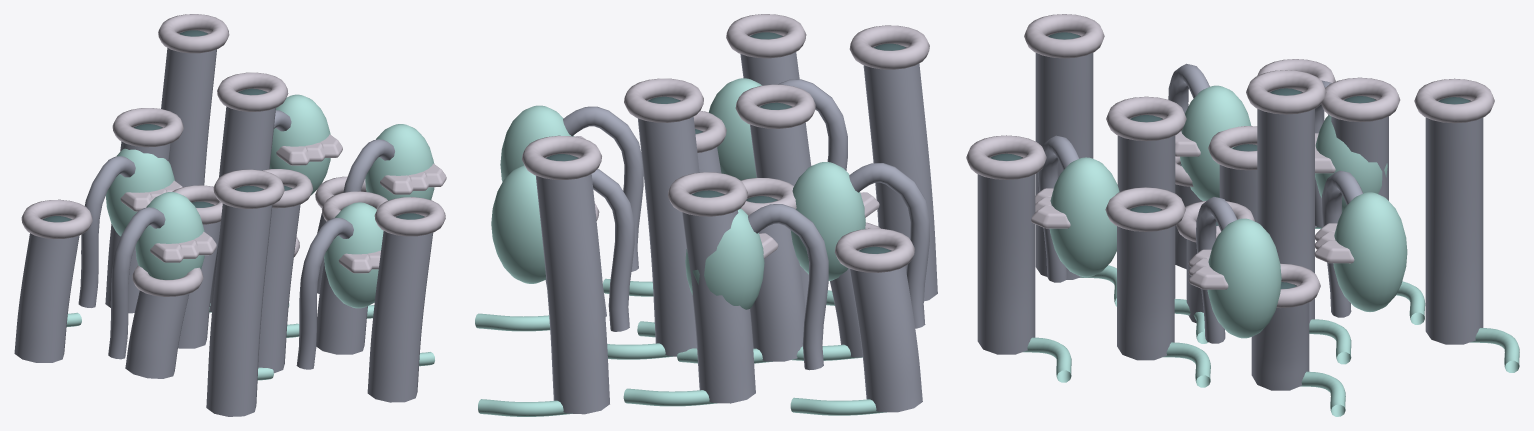
File: bio_thermal_colony_13_near.glb
3 views of the same model, side by side, from view 1: azimuth 30°, elevation 25°; view 2: azimuth 150°, elevation 25°; view 3: azimuth 270°, elevation 25° (orthographic). The views are drawn at different scales.
Visible parts, largest first — view 1: Chimney biofilm.007, Chimney biofilm.010, Chimney biofilm.009, Chimney biofilm.011, Chimney biofilm.002, Chimney biofilm.004, Pendant spore capsule.002, Pendant spore capsule.004, Chimney biofilm.003, Pendant spore capsule.003, Arched fruit stem.004, Arched fruit stem.002 (+23 smaller); view 2: Chimney biofilm.011, Chimney biofilm.003, Chimney biofilm.007, Chimney biofilm.006, Chimney biofilm.009, Chimney biofilm.001, Pendant spore capsule.004, Pendant spore capsule.003, Pendant spore capsule.001, Arched fruit stem.001, Arched fruit stem.004, Arched fruit stem.003 (+24 smaller); view 3: Chimney biofilm.011, Chimney biofilm.010, Chimney biofilm.003, Chimney biofilm.005, Pendant spore capsule, Pendant spore capsule.003, Pendant spore capsule.002, Chimney biofilm.007, Chimney biofilm.008, Pendant spore capsule.004, Chimney biofilm.002, Open vent rim.003 (+30 smaller).
Part boxes in pixels (box(x1,y1,x2,y2)): Chimney biofilm.007: box(206, 188, 272, 416); Chimney biofilm.010: box(367, 215, 433, 402); Chimney biofilm.009: box(14, 218, 79, 362); Chimney biofilm.011: box(161, 32, 216, 186); Chimney biofilm.002: box(258, 187, 300, 373); Chimney biofilm.004: box(125, 290, 188, 378); Pendant spore capsule.002: box(324, 202, 383, 308); Pendant spore capsule.004: box(135, 192, 204, 279); Chimney biofilm.003: box(210, 91, 275, 311); Pendant spore capsule.003: box(269, 94, 330, 195); Arched fruit stem.004: box(108, 207, 165, 359); Arched fruit stem.002: box(296, 218, 353, 369); Chimney biofilm.011: box(536, 156, 609, 414); Chimney biofilm.003: box(637, 99, 699, 356); Chimney biofilm.007: box(863, 46, 937, 301); Chimney biofilm.006: box(682, 193, 755, 403); Chimney biofilm.009: box(849, 248, 922, 412); Chimney biofilm.001: box(747, 198, 805, 361); Pendant spore capsule.004: box(790, 162, 865, 280); Pendant spore capsule.003: box(491, 165, 546, 283); Pendant spore capsule.001: box(685, 208, 764, 309); Arched fruit stem.001: box(748, 204, 828, 370); Arched fruit stem.004: box(849, 163, 929, 328); Arched fruit stem.003: box(591, 169, 634, 331); Chimney biofilm.011: box(1425, 100, 1483, 344); Chimney biofilm.010: box(977, 156, 1035, 354); Chimney biofilm.003: box(1257, 91, 1314, 323); Chimney biofilm.005: box(1117, 208, 1174, 360); Pendant spore capsule: box(1207, 218, 1281, 338); Pendant spore capsule.003: box(1333, 192, 1407, 311); Pendant spore capsule.002: box(1049, 157, 1119, 277); Chimney biofilm.007: box(1035, 35, 1093, 279); Chimney biofilm.008: box(1251, 284, 1309, 390); Pendant spore capsule.004: box(1180, 85, 1251, 201); Chimney biofilm.002: box(1117, 118, 1175, 298); Open vent rim.003: box(1246, 70, 1326, 114).
Bounding box in the file's own units: 1.76 × 0.9895 × 1.92.
